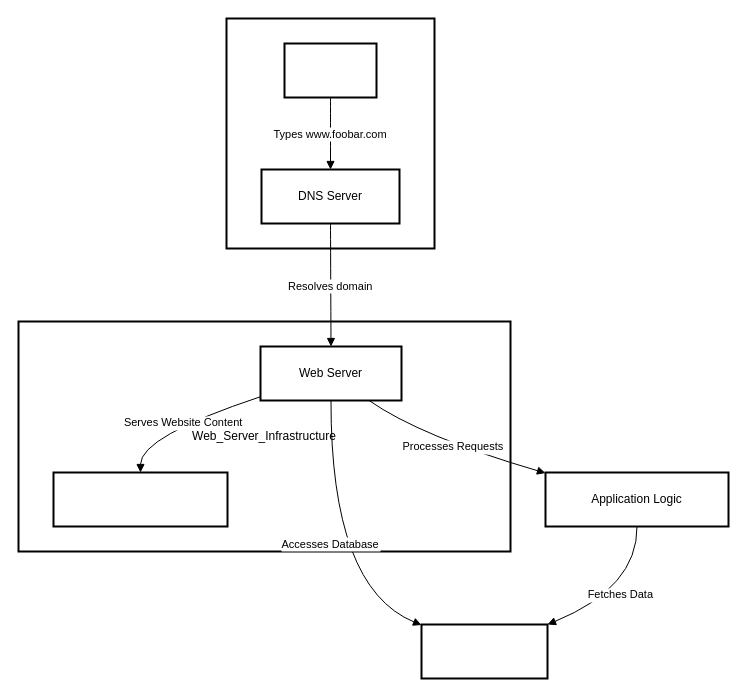
Some shapes in this 746 by 696 pixel diagram are drawn without their labels. The centre of each missing label's shape, as x and y in pixels:
Client's Browser: point (140, 499)
Database: point (484, 651)
User: point (330, 70)
